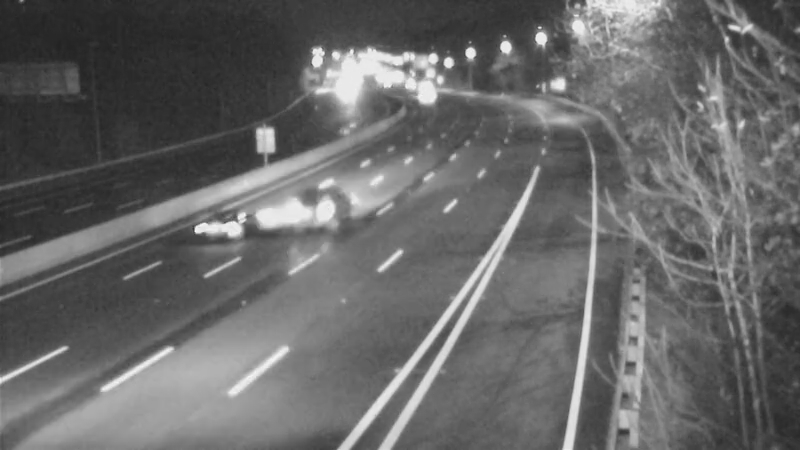vehicle: (281, 165, 361, 245), (172, 179, 252, 259), (399, 69, 449, 119)
